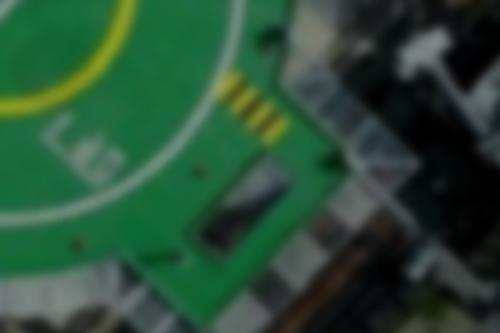Apron: (1, 1, 140, 125)
